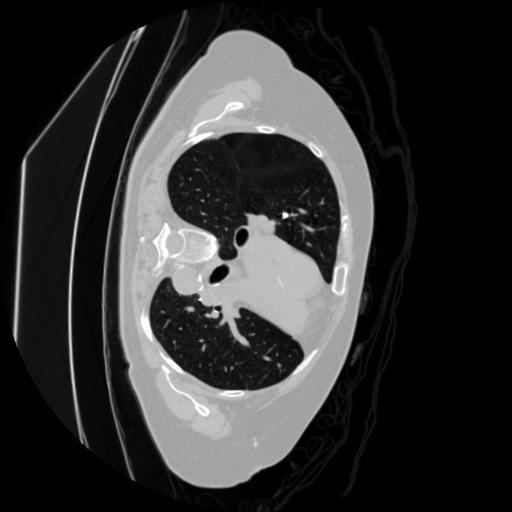nodule: (280, 208, 293, 221)
